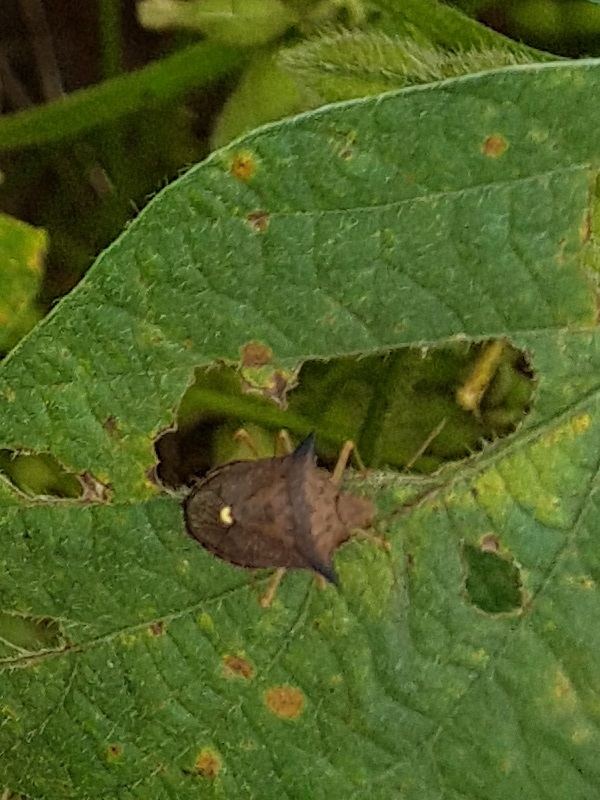Euschistus_heros_adulto: (157, 406, 447, 631)
